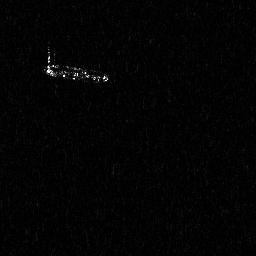ship: (41, 45, 110, 83)
